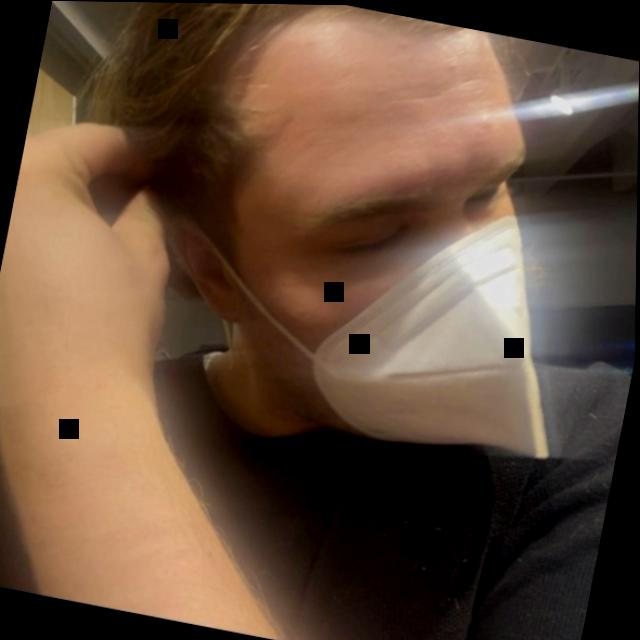Mask: (72, 1, 639, 468)
